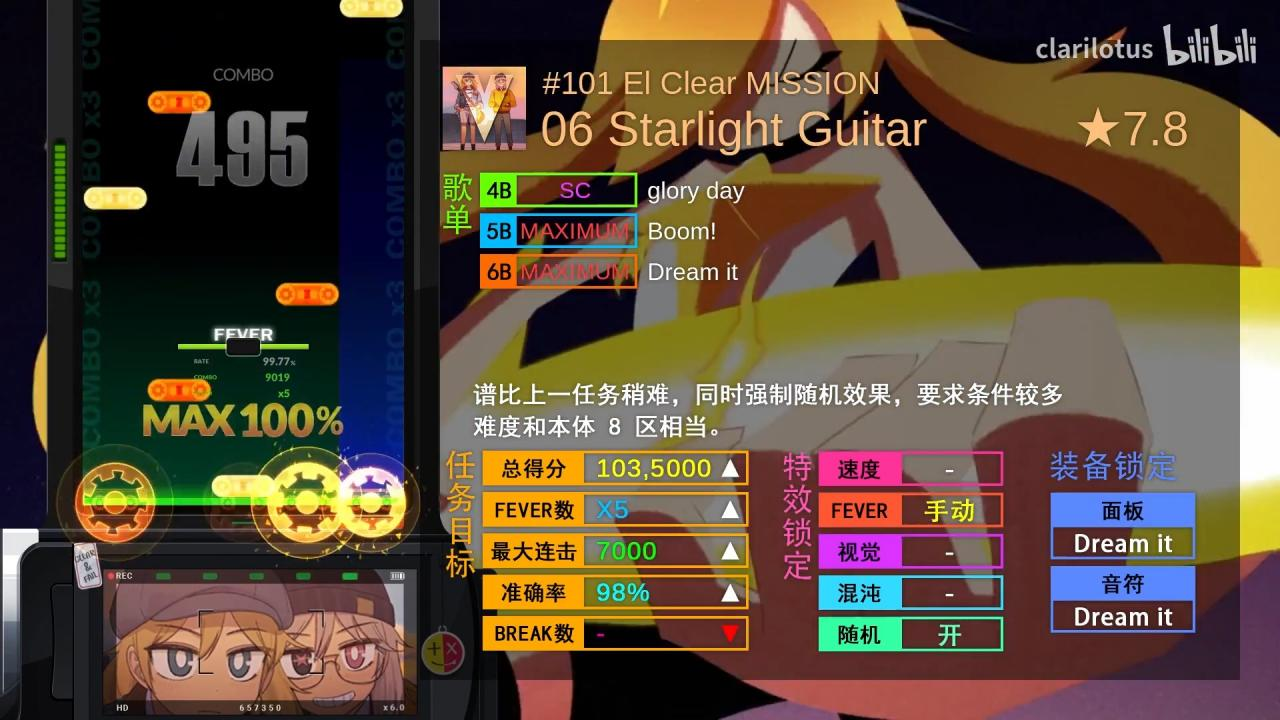note: (147, 90, 211, 114), (148, 378, 212, 402), (211, 475, 275, 498), (83, 187, 147, 209), (277, 282, 338, 305), (339, 0, 403, 17)
